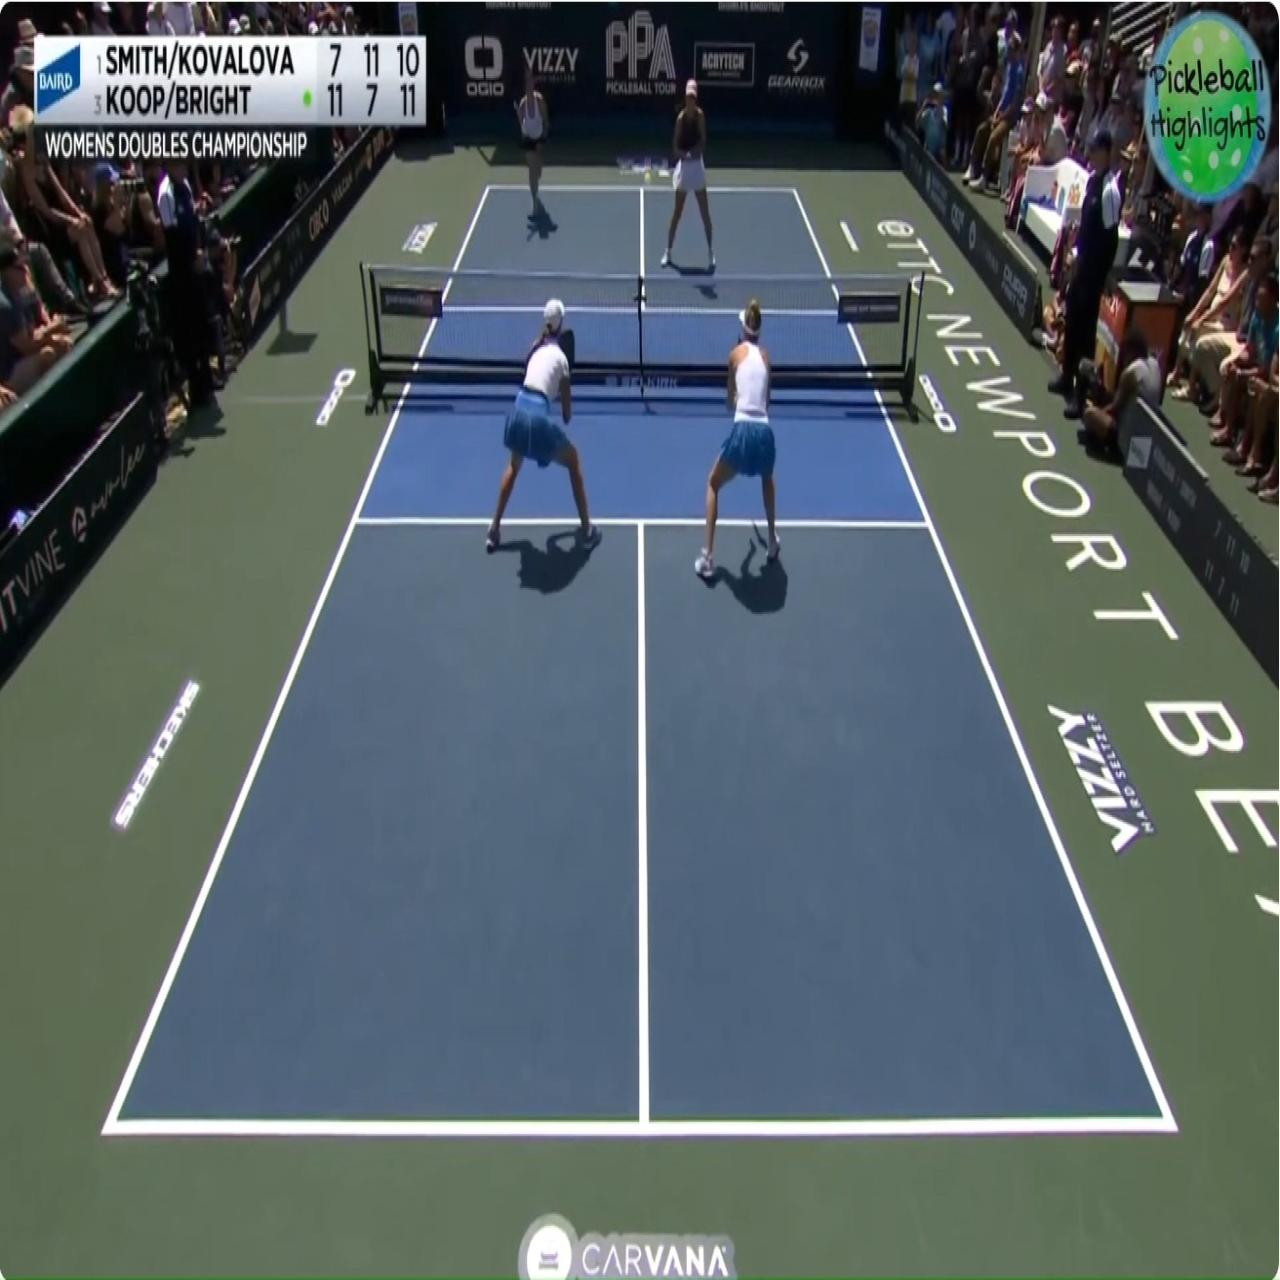pickleball: (644, 170, 652, 183)
